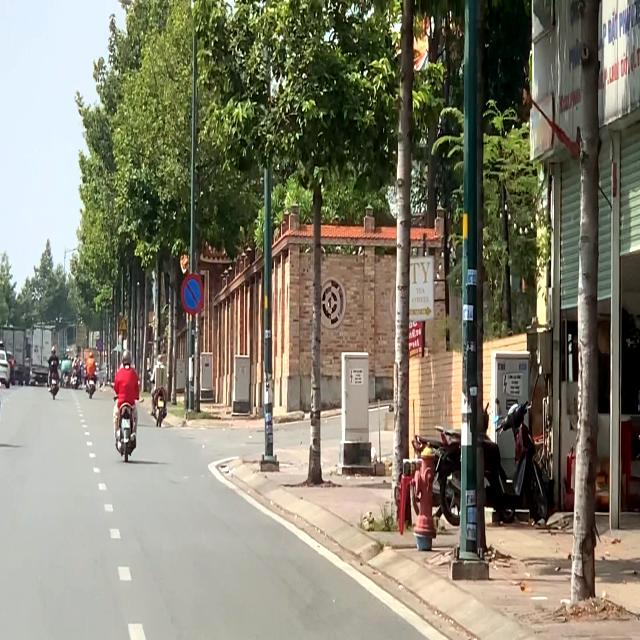Cam do xe: (180, 273, 204, 315)
Cam dung xe va do xe: (96, 338, 104, 352)
cho ngoat nguy hiem vong ben phai: (118, 316, 128, 331)
